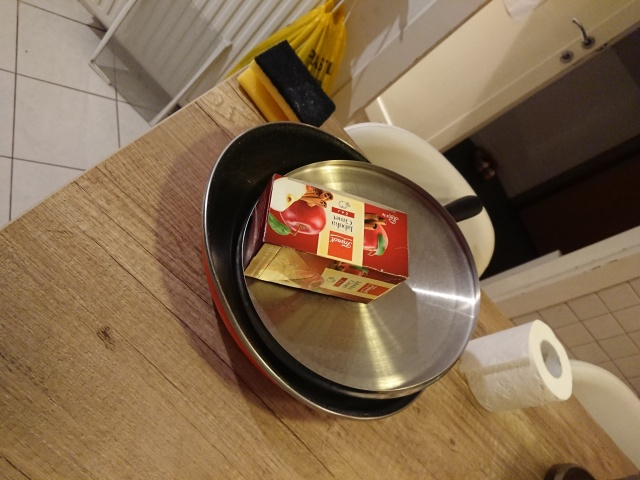Franck Apple Cinnamon Tea 60g: (239, 170, 412, 306)
